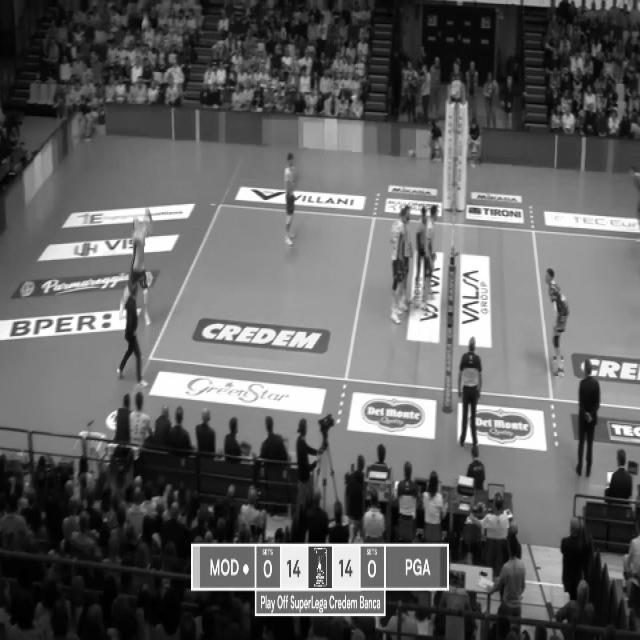volleyball court: (148, 202, 639, 410)
